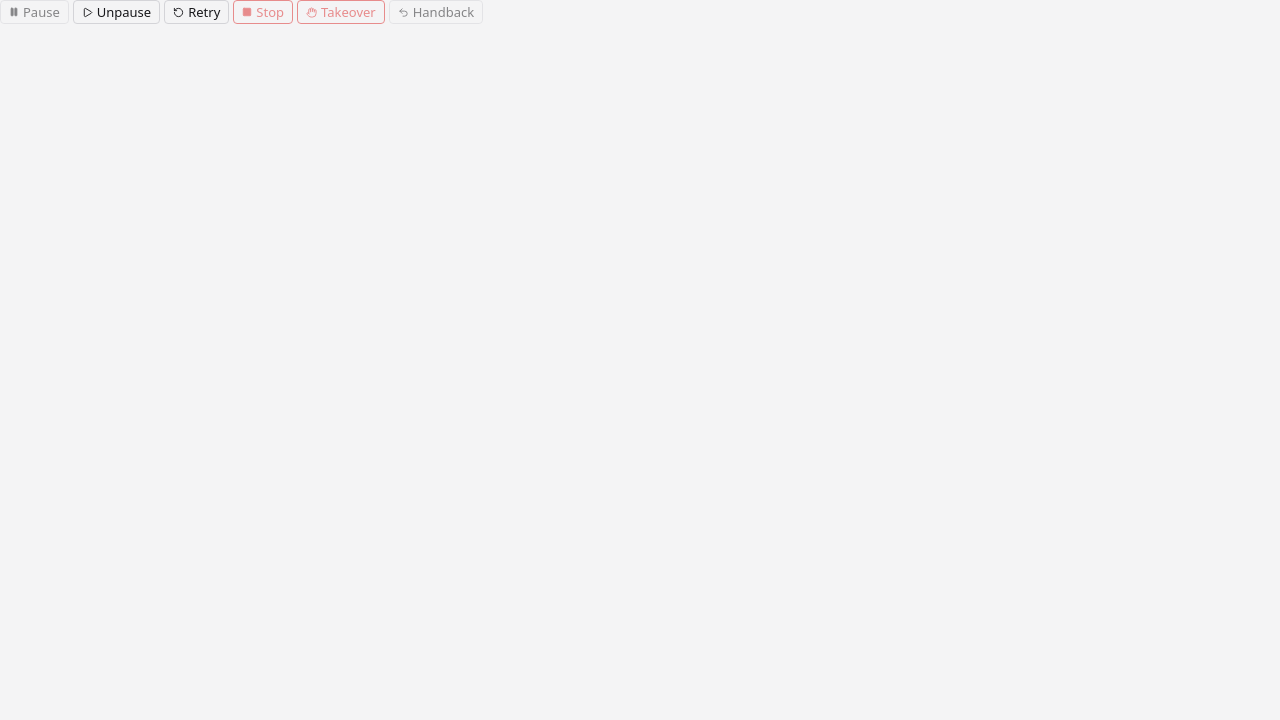
Scenario: LoopActionBar retry dirty UX › inspect-first cancels discard and shows jump guidance
Click the button "Retry" at [197, 12], box left=164, top=0, right=229, bottom=24
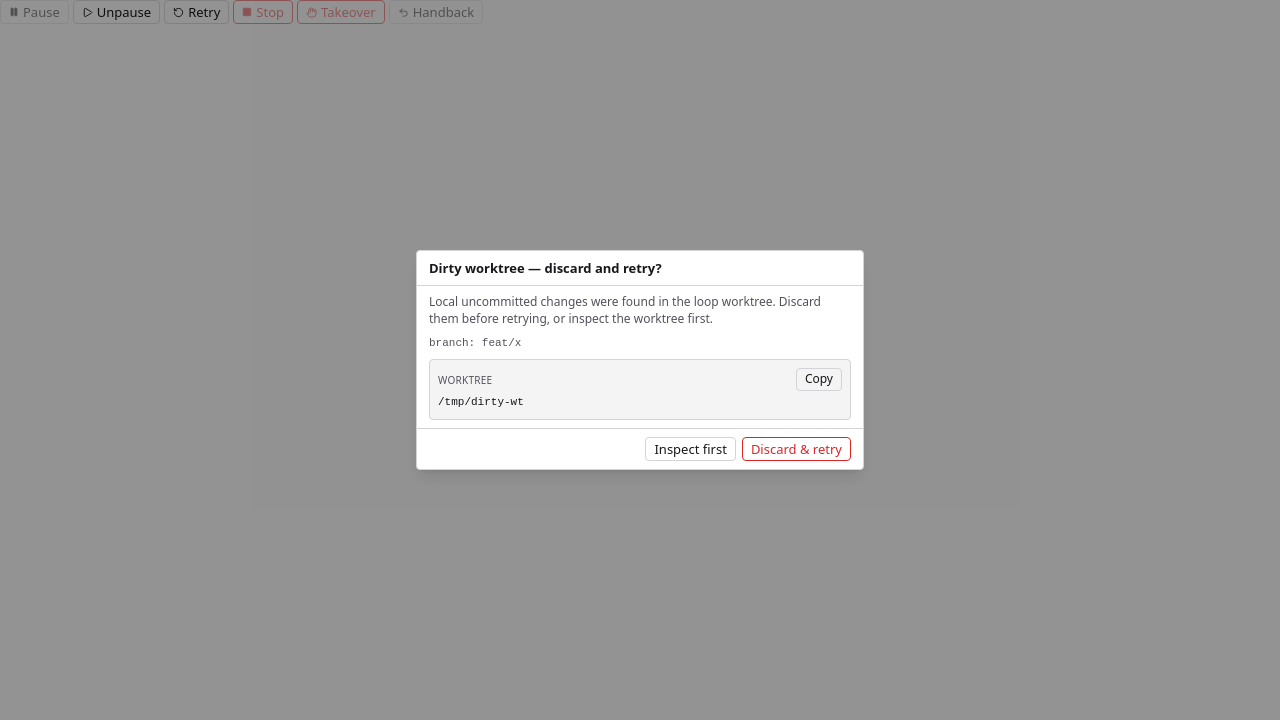
Check: the heading "Dirty worktree — discard and retry?" is shown, box left=429, top=259, right=662, bottom=277
Click the button "Inspect first" at [691, 449], box left=645, top=437, right=736, bottom=461
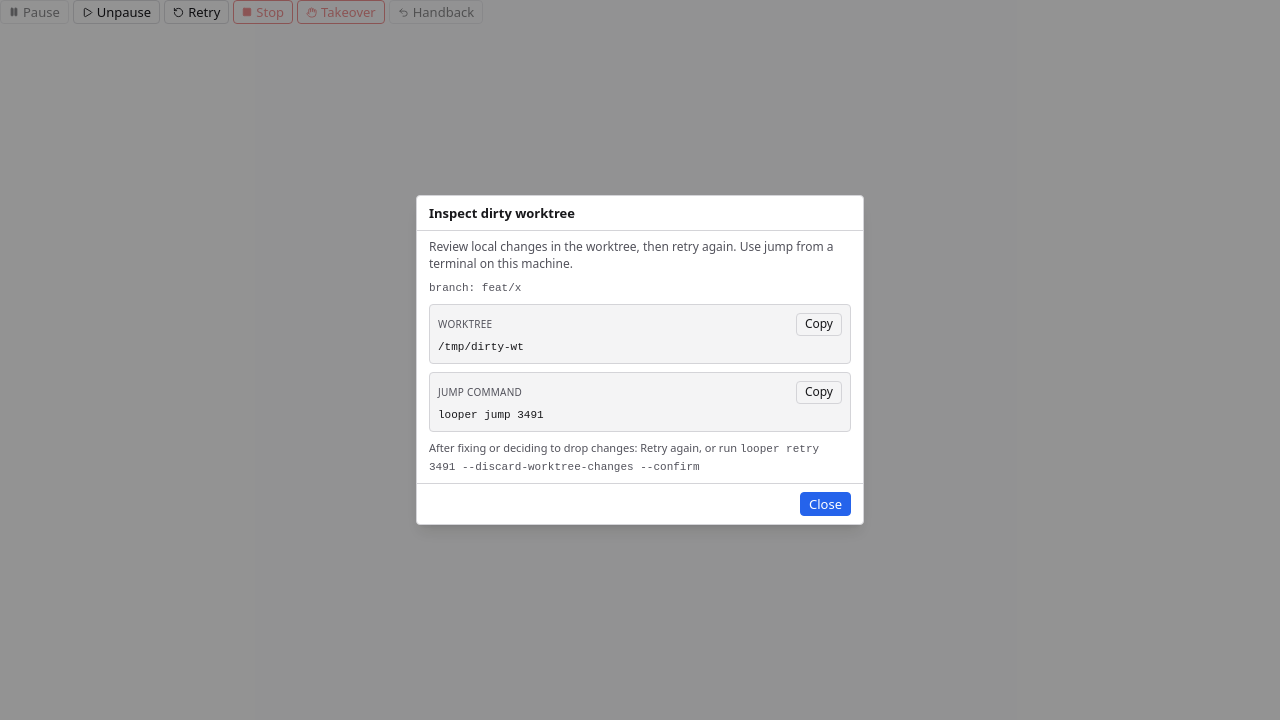
Check: the text "/tmp/dirty-wt" is shown, box left=438, top=341, right=524, bottom=353
Check: the heading "Inspect dirty worktree" is shown, box left=429, top=204, right=575, bottom=222
Check: the text "looper jump 3491" is shown, box left=438, top=409, right=544, bottom=421
